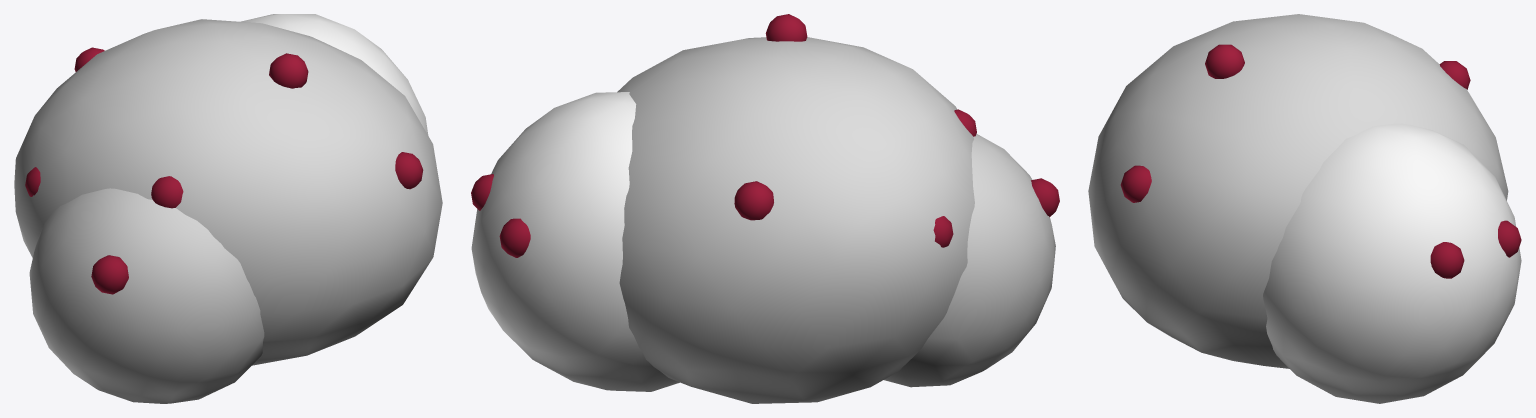
The model's file is berry-bush.obj.
3 renders of one model, left to right at view 1: azimuth 30°, elevation 25°; view 2: azimuth 150°, elevation 25°; view 3: azimuth 270°, elevation 25°, orthographic. The views are drawn at different scales.
Visible parts, largest first — view 1: berry-bush; view 2: berry-bush; view 3: berry-bush.
Boxes of the visible parts, box(x1,y1,x2,y2) form: berry-bush: box(14, 14, 442, 403); berry-bush: box(471, 14, 1059, 403); berry-bush: box(1088, 14, 1521, 403).
Size of the model in its own units: 1.27 by 0.8441 by 1.07.
